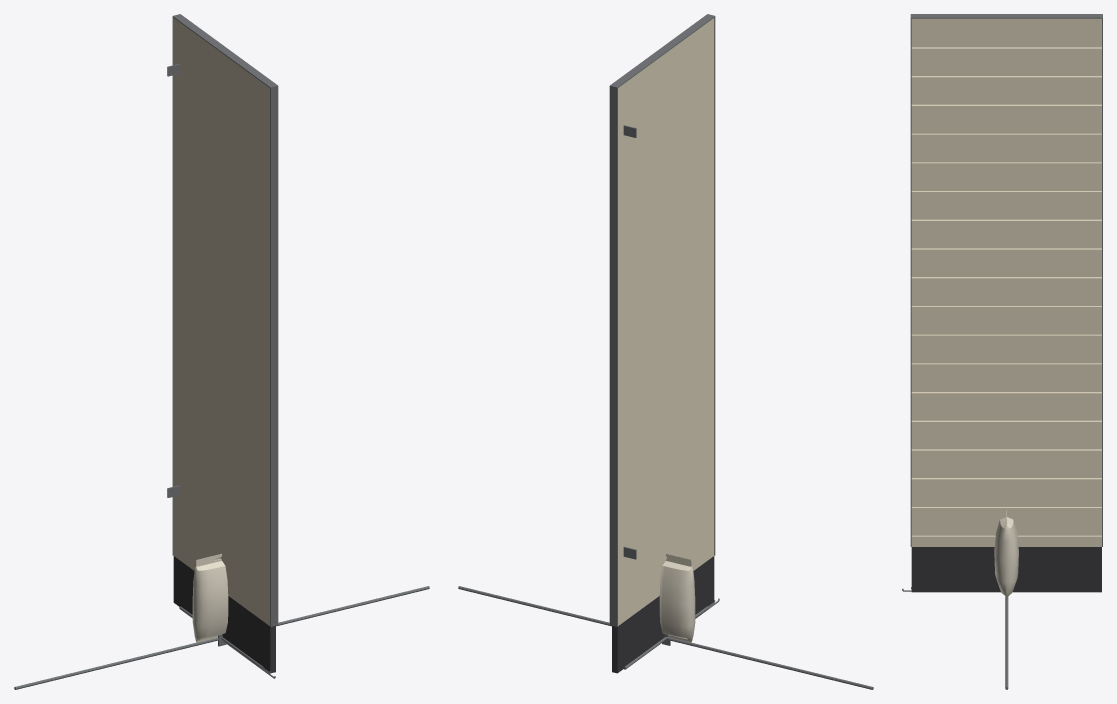
File: candy-pouch.glb
3 renders of one model, left to right at view 1: azimuth 30°, elevation 25°; view 2: azimuth 150°, elevation 25°; view 3: azimuth 270°, elevation 25°, orthographic.
Visible parts, largest first — view 1: SlatwallBoard_grooved_panel, SlatwallEdgeCap_Front, SlatwallKick_base, PouchFull_continuous_laminate_and_seals, GondolaCrossbar_continuous_tube, SlatwallEdgeCap_Rear, SlatwallEdgeCap_Top, RackCrossbar_continuous_tube; view 2: SlatwallBoard_grooved_panel, SlatwallEdgeCap_Rear, SlatwallKick_base, PouchFull_continuous_laminate_and_seals, SlatwallEdgeCap_Front, GondolaCrossbar_continuous_tube, SlatwallEdgeCap_Top, RackCrossbar_continuous_tube; view 3: SlatwallBoard_grooved_panel, SlatwallKick_base, PouchFull_continuous_laminate_and_seals, SlatwallEdgeCap_Front, SlatwallEdgeCap_Top, SlatwallEdgeCap_Rear, GondolaCrossbar_continuous_tube.
Part boxes in pixels (x1,y1,x2,y2): SlatwallBoard_grooved_panel: [173, 18, 269, 625]; SlatwallEdgeCap_Front: [270, 87, 278, 626]; SlatwallKick_base: [173, 556, 275, 673]; PouchFull_continuous_laminate_and_seals: [192, 553, 228, 642]; GondolaCrossbar_continuous_tube: [14, 586, 429, 689]; SlatwallEdgeCap_Rear: [172, 17, 173, 555]; SlatwallEdgeCap_Top: [172, 14, 278, 88]; RackCrossbar_continuous_tube: [62, 598, 382, 678]; SlatwallBoard_grooved_panel: [618, 18, 714, 625]; SlatwallEdgeCap_Rear: [609, 87, 617, 626]; SlatwallKick_base: [612, 556, 714, 673]; PouchFull_continuous_laminate_and_seals: [659, 553, 695, 642]; SlatwallEdgeCap_Front: [714, 17, 715, 555]; GondolaCrossbar_continuous_tube: [458, 586, 873, 689]; SlatwallEdgeCap_Top: [609, 14, 715, 88]; RackCrossbar_continuous_tube: [505, 598, 825, 678]; SlatwallBoard_grooved_panel: [911, 18, 1101, 546]; SlatwallKick_base: [911, 547, 1101, 592]; PouchFull_continuous_laminate_and_seals: [994, 510, 1018, 599]; SlatwallEdgeCap_Front: [910, 18, 911, 546]; SlatwallEdgeCap_Top: [910, 14, 1102, 18]; SlatwallEdgeCap_Rear: [1102, 18, 1102, 546]; GondolaCrossbar_continuous_tube: [1005, 597, 1008, 689].
Bounding box in the file's own units: 3.7 × 5.07 × 1.58.
